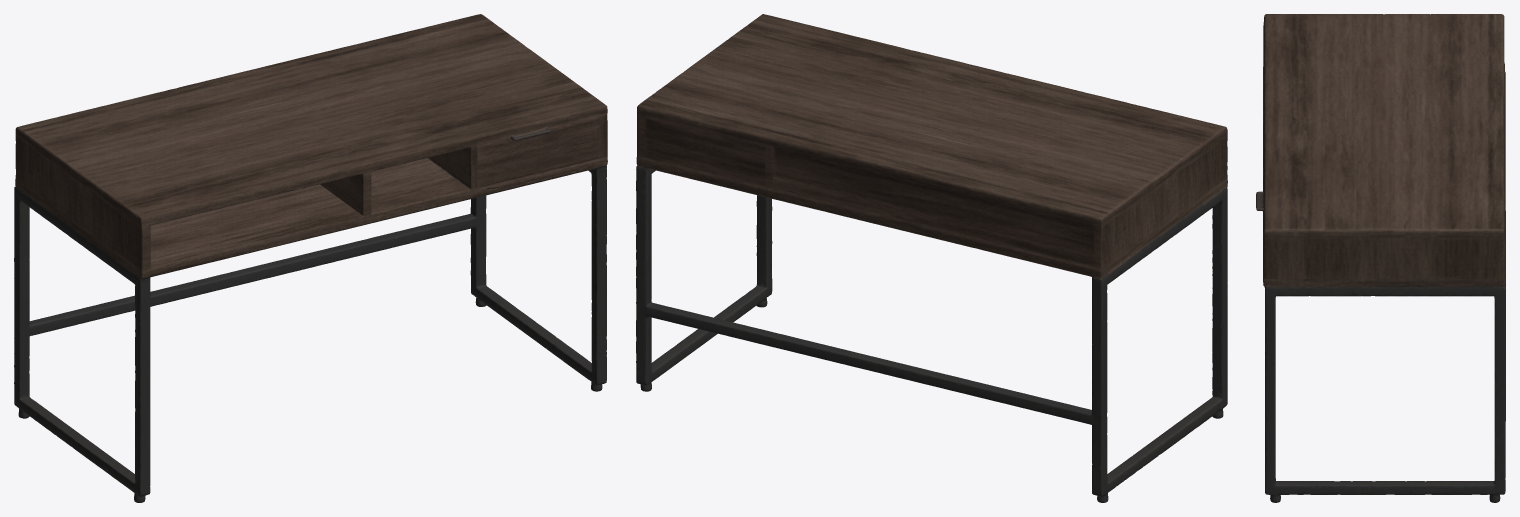
File: desk_v3.glb
3 views of the same model, side by side, from view 1: azimuth 30°, elevation 25°; view 2: azimuth 150°, elevation 25°; view 3: azimuth 270°, elevation 25° (orthographic). The views are drawn at different scales.
Visible parts, largest first — view 1: world; view 2: world; view 3: world.
Part boxes in pixels (x1,y1,x2,y2): world: [14, 14, 607, 502]; world: [636, 14, 1227, 502]; world: [1256, 14, 1505, 502].
Bounding box in the file's own units: 1 × 0.5897 × 0.4881.
Materials: 1 (1 with a texture image).
